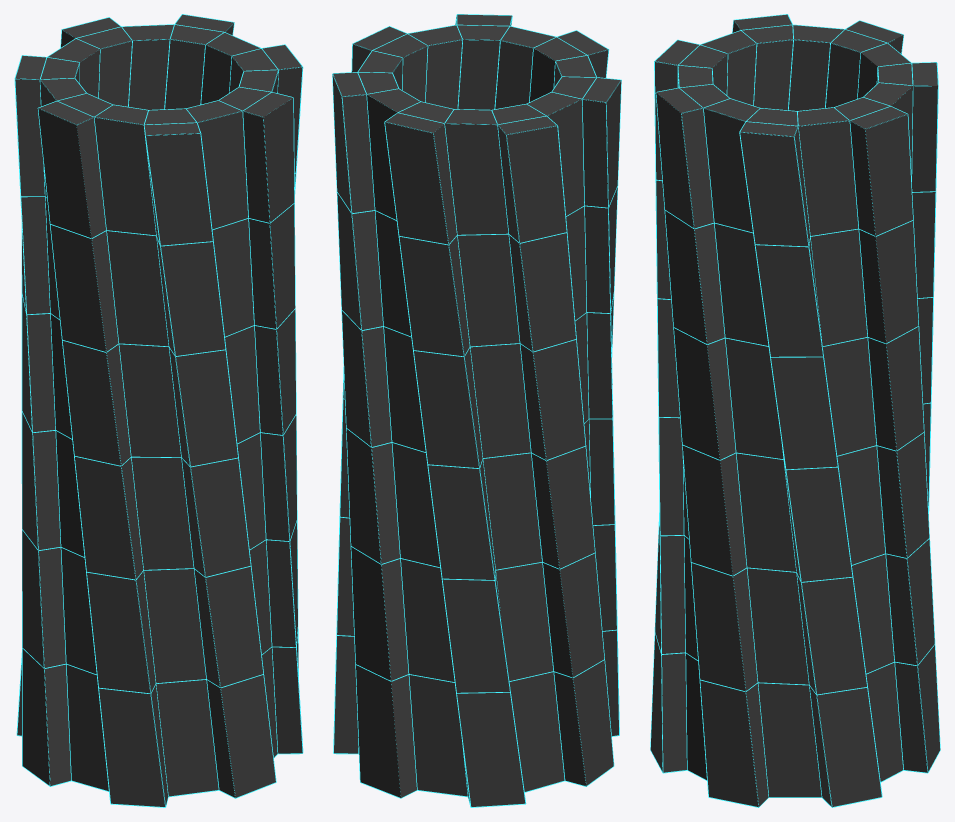
The model's file is Skewed lenky cog.fbx.
The picture shows the model from 3 angles, left to right: view 1: azimuth 30°, elevation 25°; view 2: azimuth 150°, elevation 25°; view 3: azimuth 270°, elevation 25°; orthographic projection.
Parts seen in each view (by area): view 1: Skewed cog; view 2: Skewed cog; view 3: Skewed cog.
Boxes of the visible parts, left/top/right/bottom form: Skewed cog: left=14, top=14, right=303, bottom=807; Skewed cog: left=332, top=14, right=621, bottom=807; Skewed cog: left=650, top=14, right=940, bottom=807.
Size of the model in its own units: 657 by 1680 by 657.
